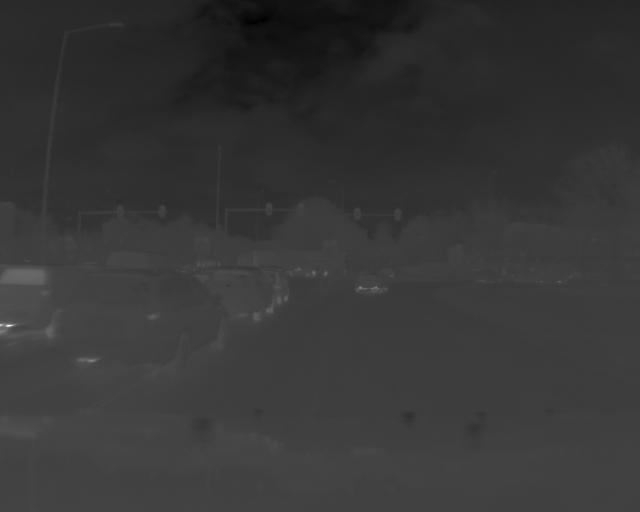car: (62, 266, 234, 374), (200, 268, 277, 318), (351, 272, 391, 297)
